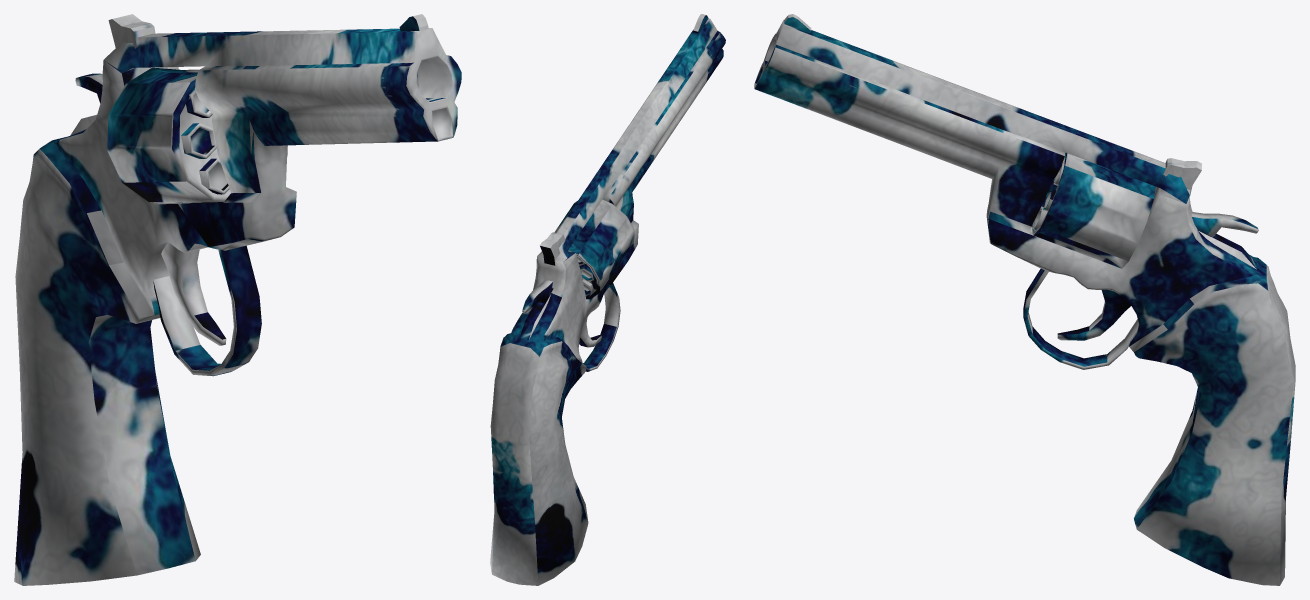
The model's file is green.fbx.
3 views of the same model, side by side, from view 1: azimuth 30°, elevation 25°; view 2: azimuth 150°, elevation 25°; view 3: azimuth 270°, elevation 25° (orthographic). The views are drawn at different scales.
Parts seen in each view (by area): view 1: pistol1; view 2: pistol1; view 3: pistol1.
Boxes of the visible parts, x1,y1,x2,y2 form: pistol1: [14, 14, 461, 585]; pistol1: [490, 14, 725, 585]; pistol1: [754, 14, 1295, 585].
Size of the model in its own units: 94.02 by 480 by 422.
1 material, 1 textured.
